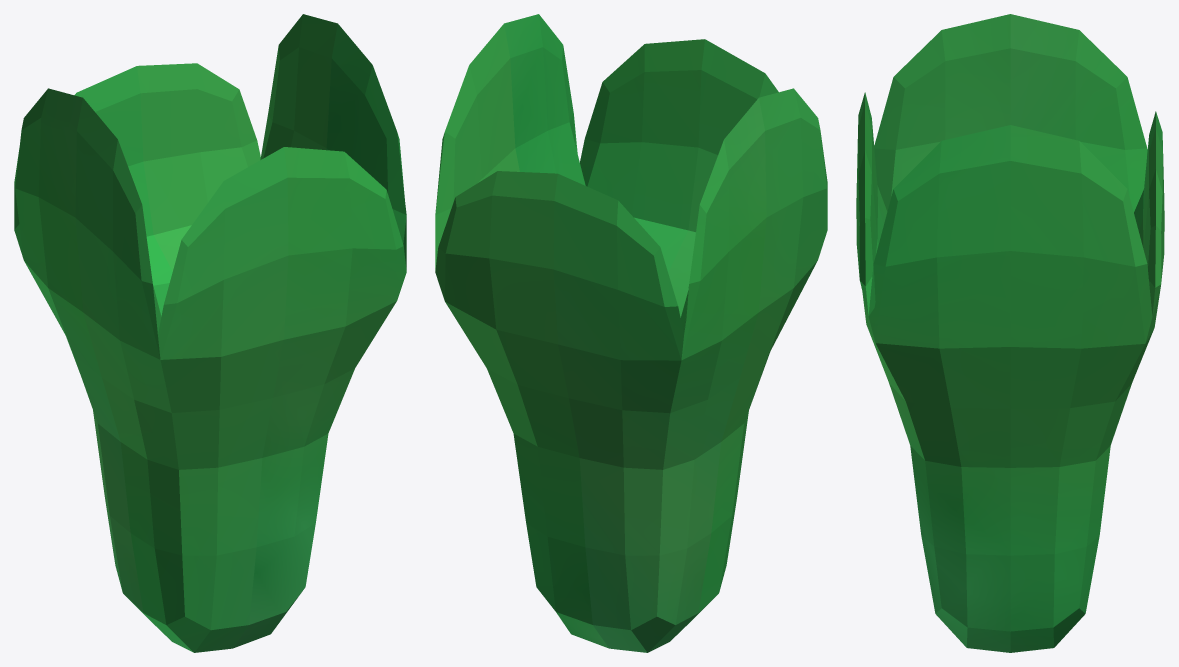
File: SM_Crop_Lettuce_Stage_Seed.fbx
3 renders of one model, left to right at view 1: azimuth 30°, elevation 25°; view 2: azimuth 150°, elevation 25°; view 3: azimuth 270°, elevation 25°, orthographic.
Visible parts, largest first — view 1: SM_Crop_Lettuce_ST1; view 2: SM_Crop_Lettuce_ST1; view 3: SM_Crop_Lettuce_ST1.
Part boxes in pixels (x1,y1,x2,y2): SM_Crop_Lettuce_ST1: [14, 14, 406, 652]; SM_Crop_Lettuce_ST1: [435, 14, 827, 652]; SM_Crop_Lettuce_ST1: [856, 14, 1164, 652].
Size of the model in its own units: 16.66 by 34.34 by 16.66.
Materials: 1 (1 with a texture image).
